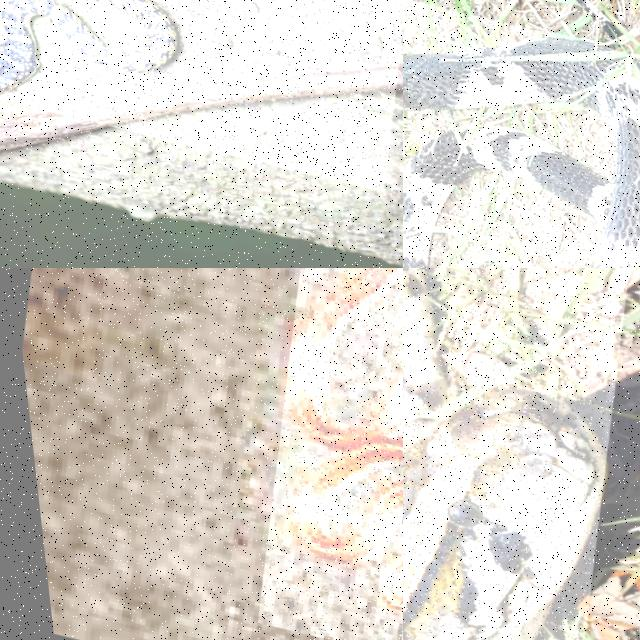Calliophis intestinalis: (288, 268, 402, 563)
Chrysopelea ornata: (0, 0, 180, 95)
Naja kaouthia: (403, 38, 639, 267)
Python bivittatus: (403, 268, 605, 639)
